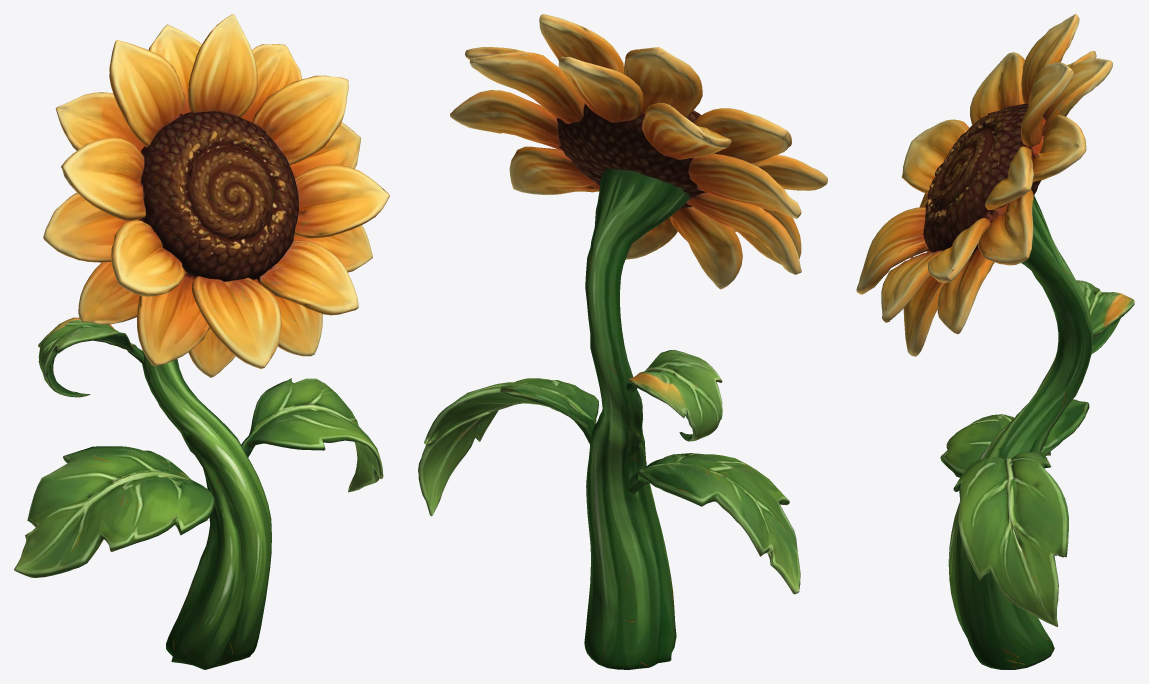
The model's file is sunflower.glb.
3 views of the same model, side by side, from view 1: azimuth 30°, elevation 25°; view 2: azimuth 150°, elevation 25°; view 3: azimuth 270°, elevation 25° (orthographic). The views are drawn at different scales.
Bounding box in the file's own units: 0.5791 × 0.9512 × 0.3931.
1 material, 1 textured.
